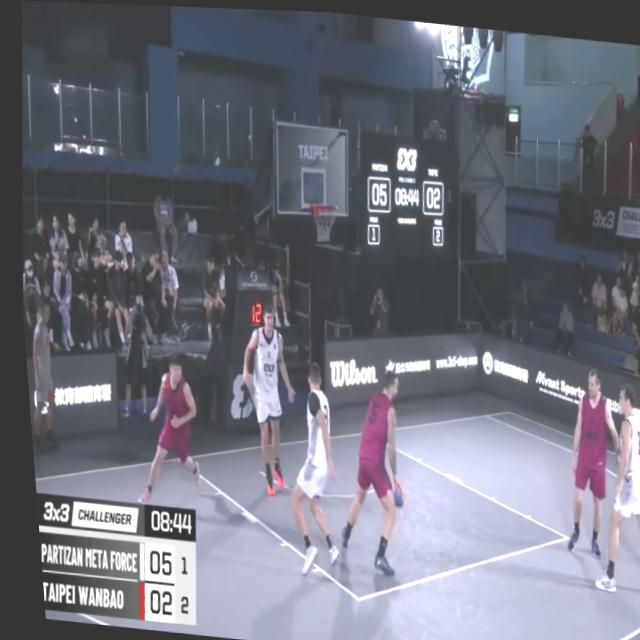ball: (379, 473, 401, 511)
hoop: (304, 200, 336, 242)
player: (321, 359, 405, 577), (267, 356, 340, 575), (223, 302, 298, 498), (549, 361, 622, 556), (579, 376, 640, 593), (124, 352, 205, 510)
